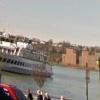Boat: (3, 35, 64, 87)
